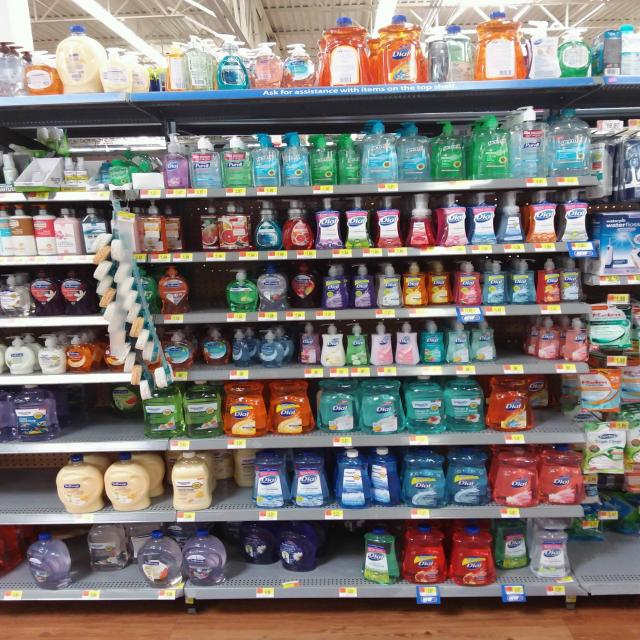void: (0, 456, 53, 536), (63, 386, 108, 460), (322, 522, 356, 609), (501, 319, 533, 384), (562, 375, 582, 446), (197, 268, 221, 324)
